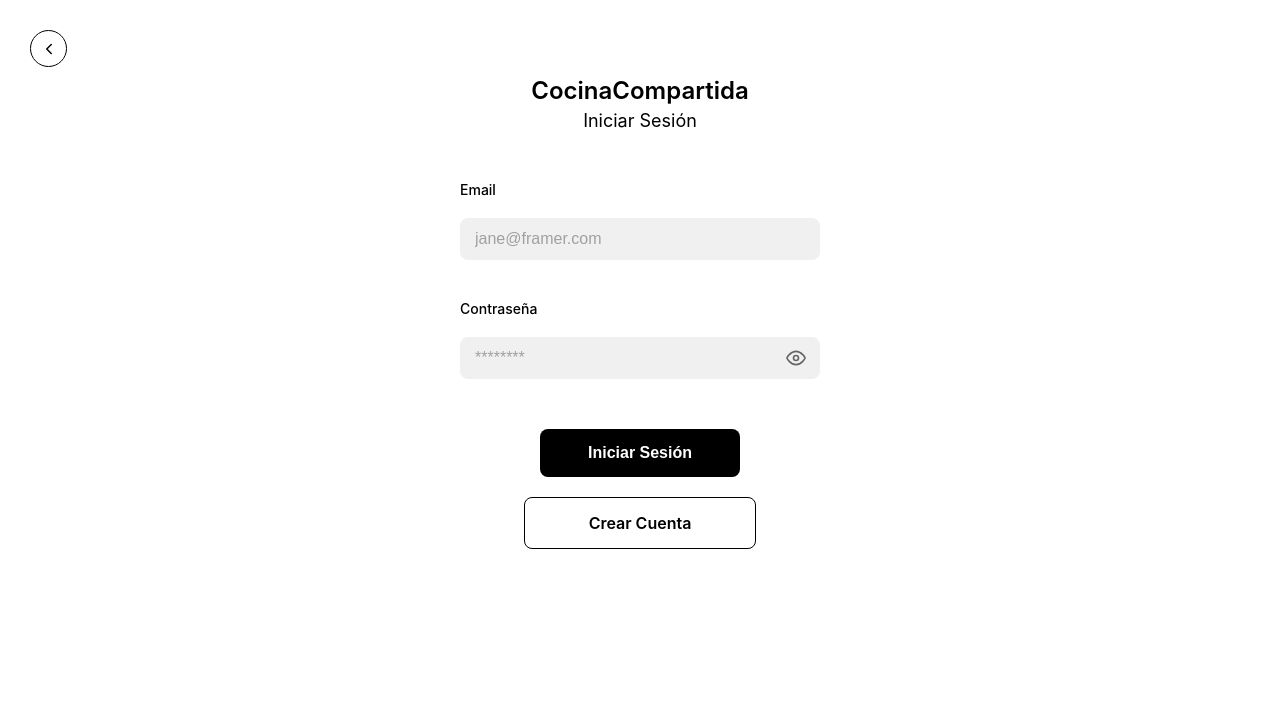
Test: Auth Security Tests › should handle SQL Injection attempts gracefully in the login form
In the field labelled "Email": (640, 239) [460,218,820,260], type "admin@test.com"
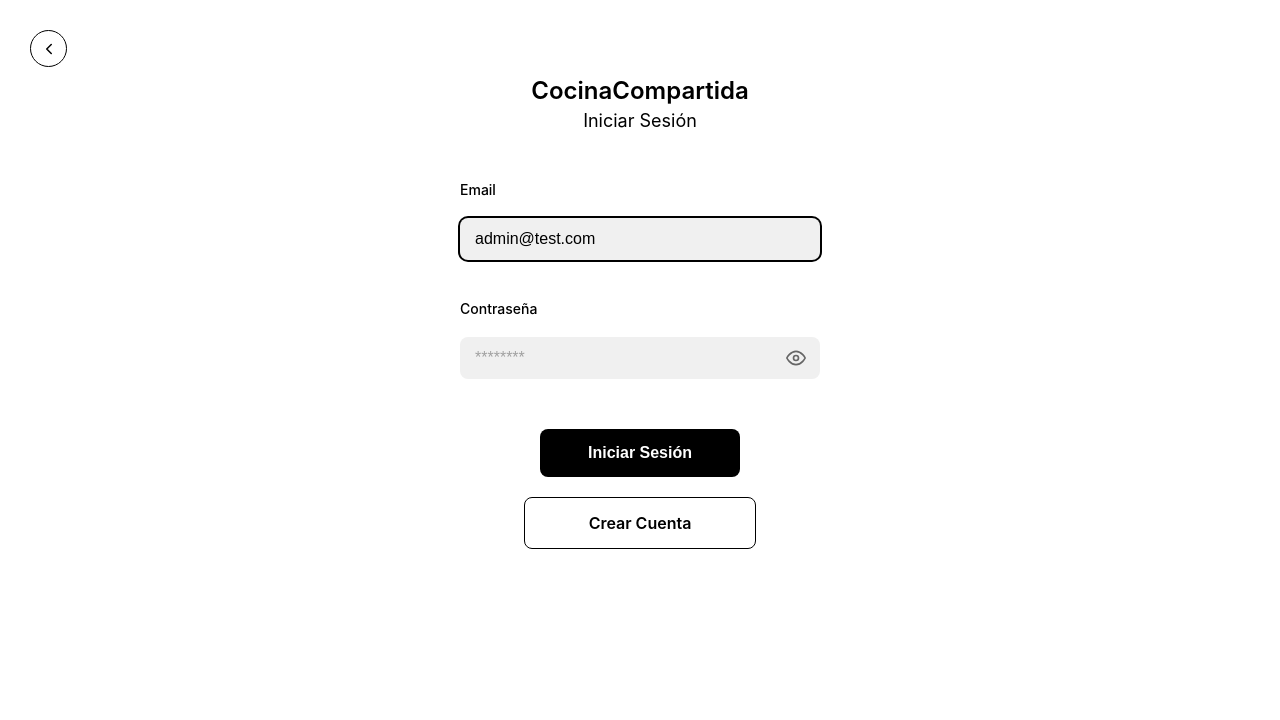
In the password field labelled "Contraseña": (640, 358) [460,337,820,379], type "' OR '1'='1' --"
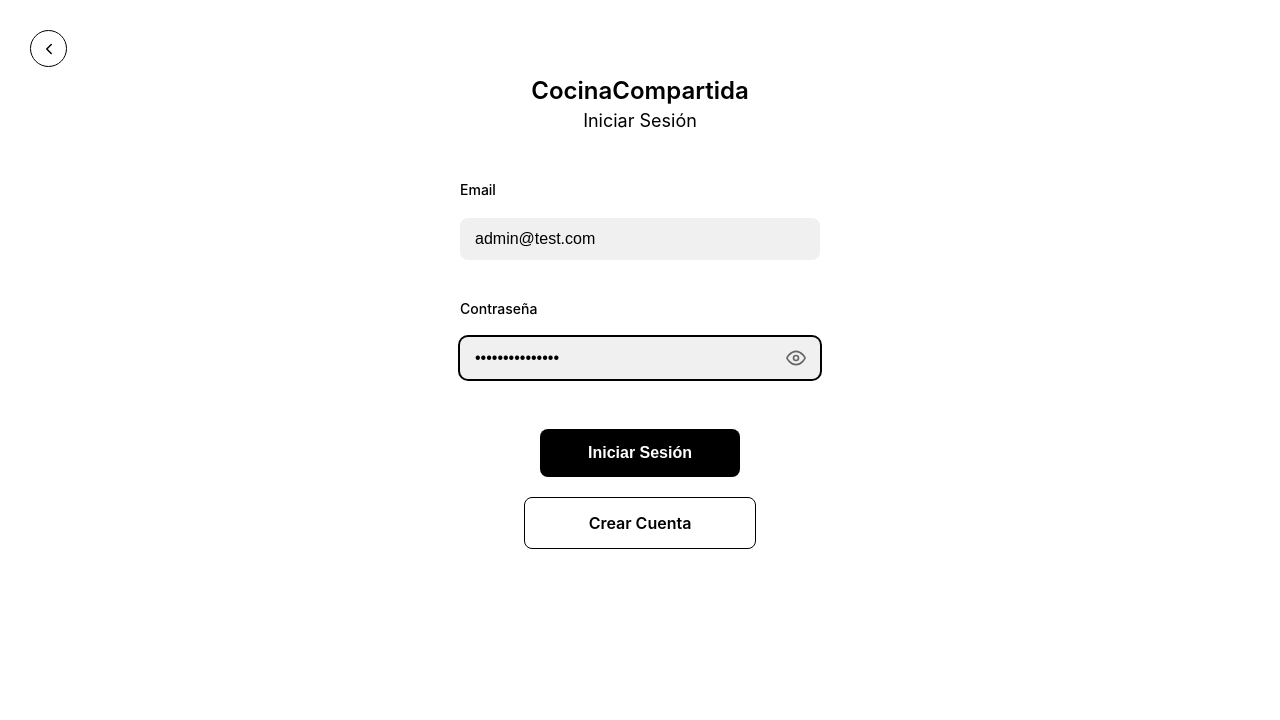
Click the submit button: (640, 453) [540,429,740,477]
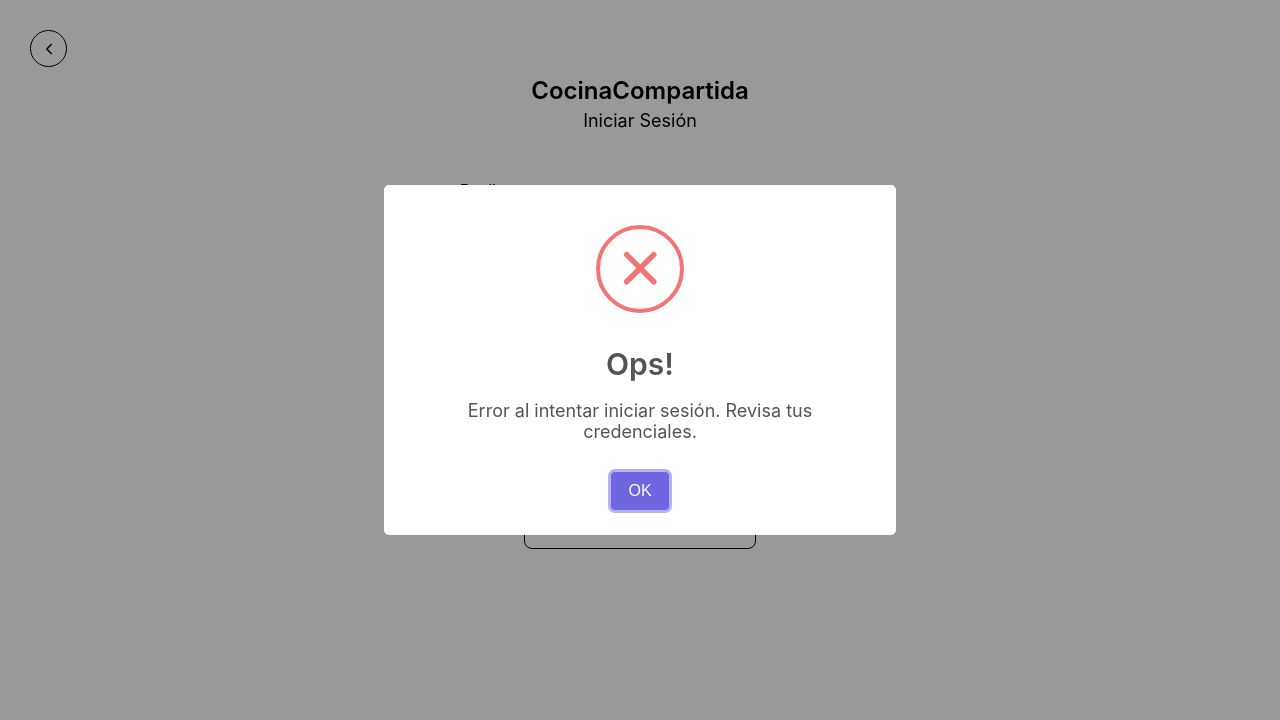
Expected: the dialog with class "swal2-popup" is shown, [384,185,896,536]
Expected: the heading with class "swal2-title" reads "Ops!", [606,346,674,382]
